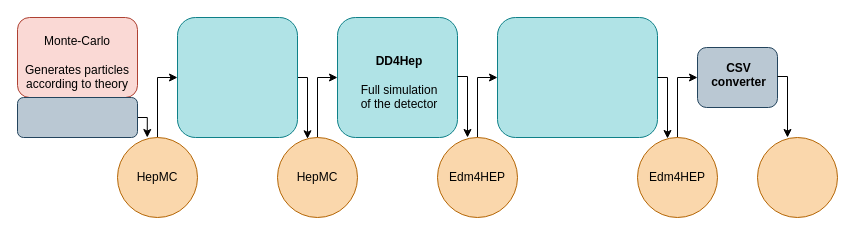
This 855x235 diagram has some shape labels left out. Here are the shapes that lost their labels. From the top down, the centre of each, then its label:
pixel 237 77: Afterburner Applies beam effects and crossing angle to particles
pixel 577 77: EicRecon Reconstructs events like they were read from the detector
pixel 77 117: HepMC converter
pixel 797 177: CSV
